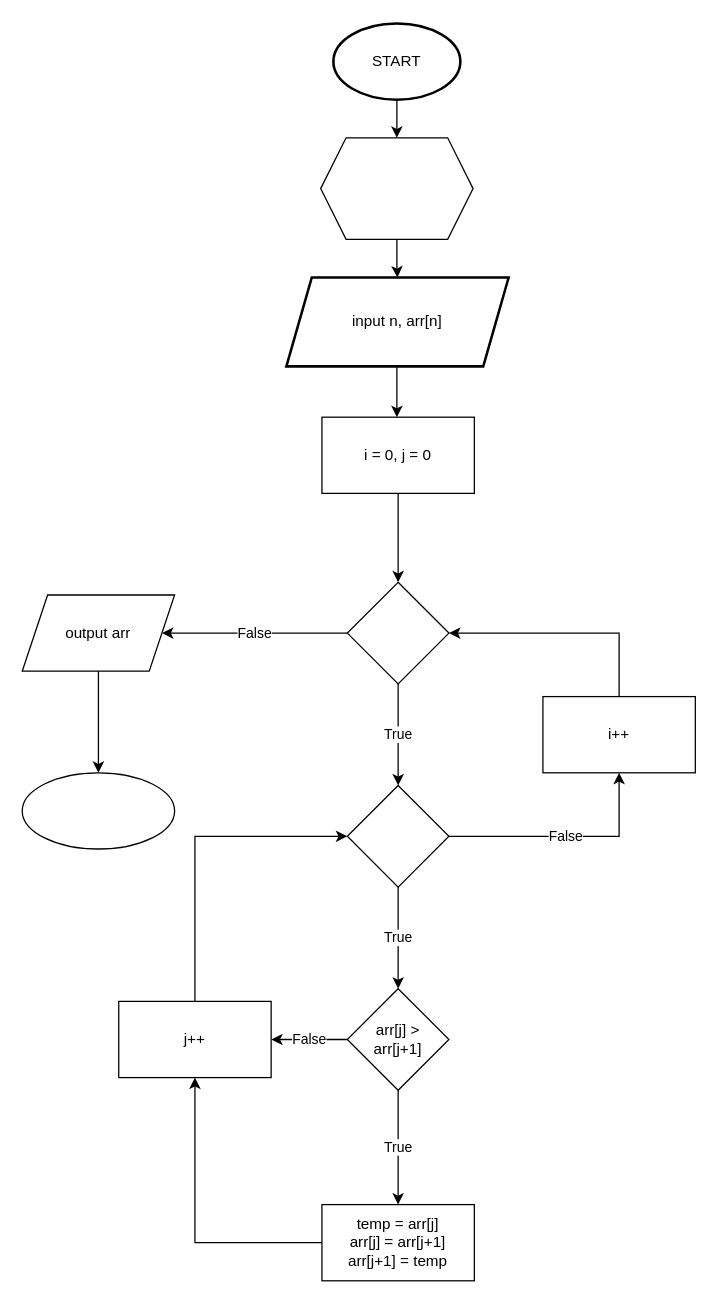
Image size: 718x1303. Some labels were removed from this diagram. Each missing label, with the box of its shape:
END: (21, 772, 175, 849)
i < n-1: (346, 581, 449, 684)
int n, i, j, temp int arr[1005]: (319, 137, 473, 239)
j < n-i: (346, 784, 449, 887)
